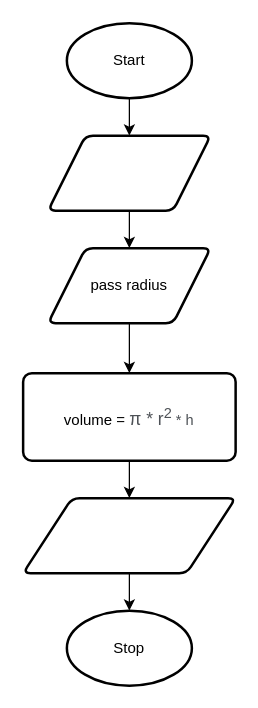
Image size: 258x708. Some labels were removed from this diagram. Here are the shapes that lost their labels. From the top down, the box of each, then its label:
(46, 134, 211, 211): pass height
(21, 496, 236, 574): return volume
